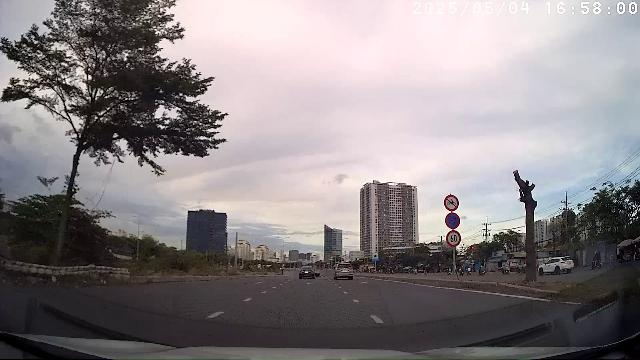127-toc-do-toi-da-60: (446, 230, 462, 248)
130-cam-dung-va-do-xe: (446, 212, 460, 230)
